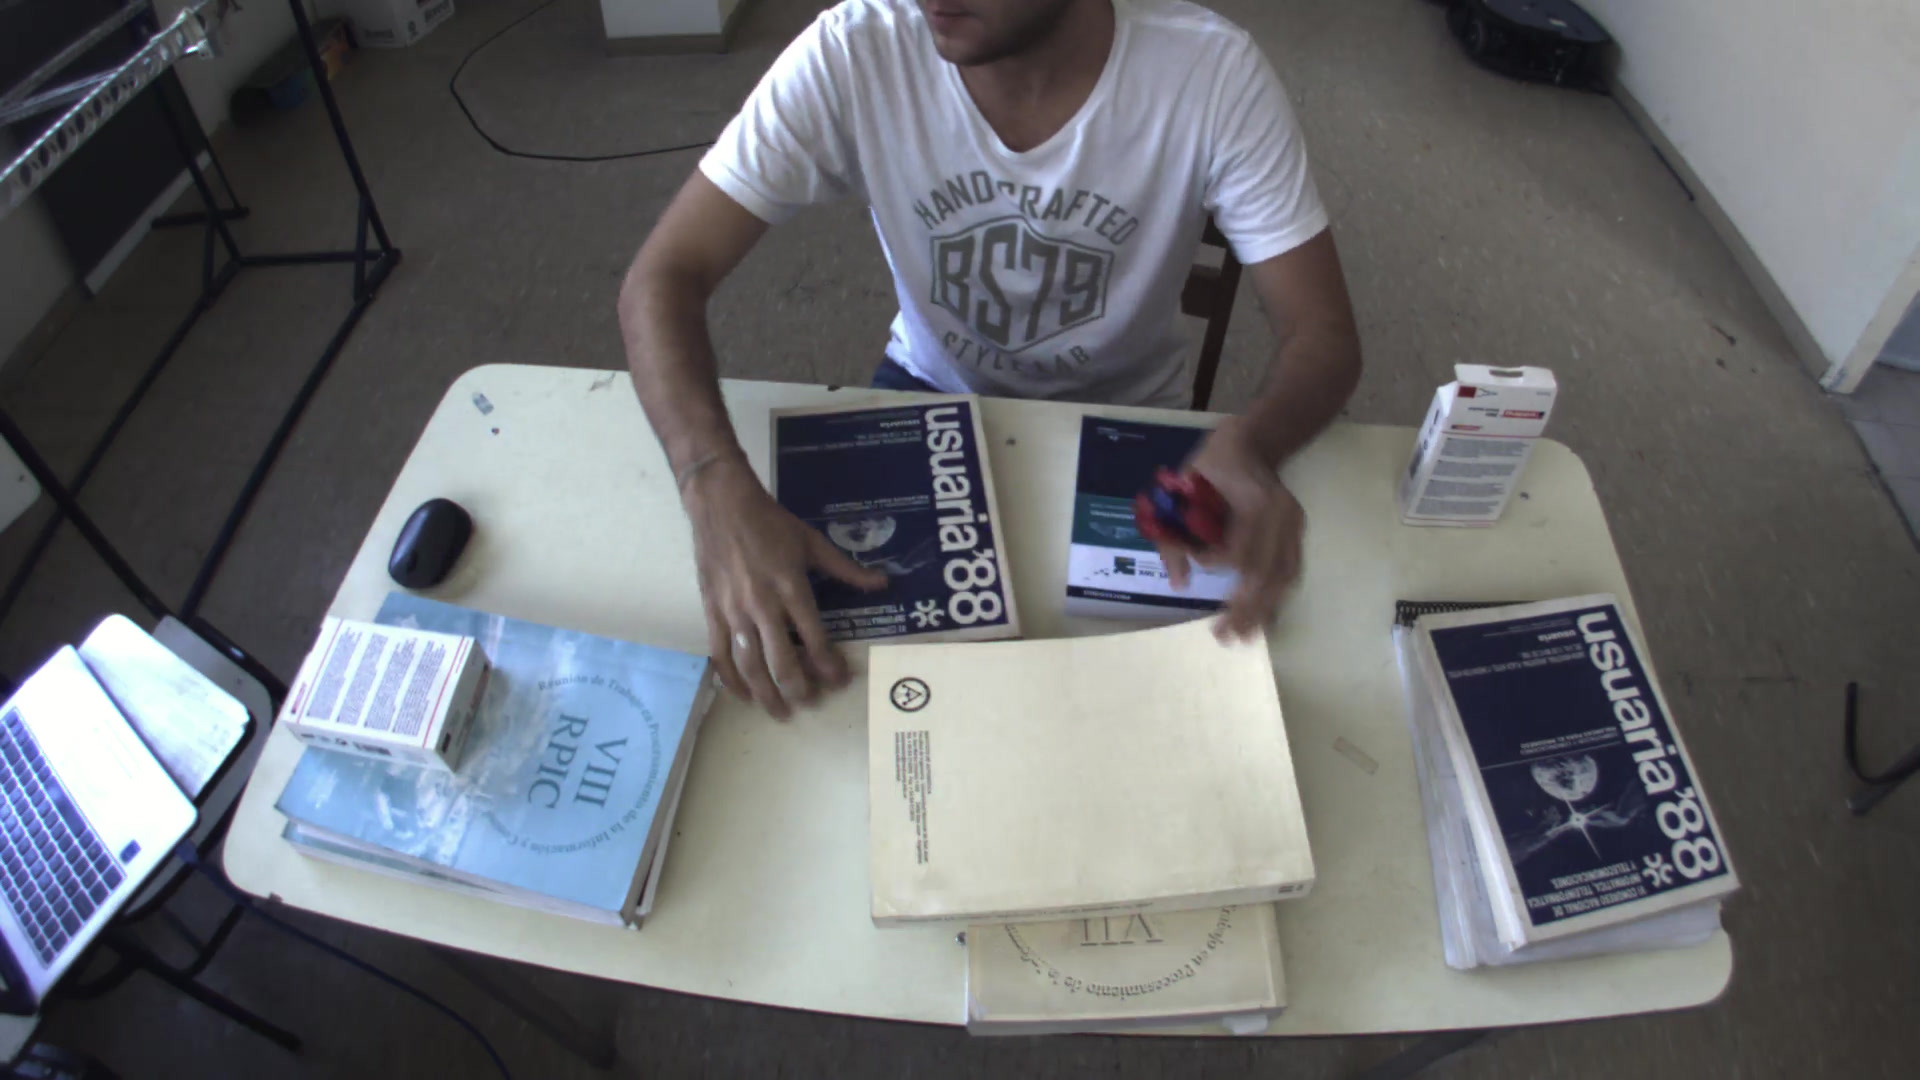hand: (675, 483, 902, 723), (1110, 423, 1331, 657)
